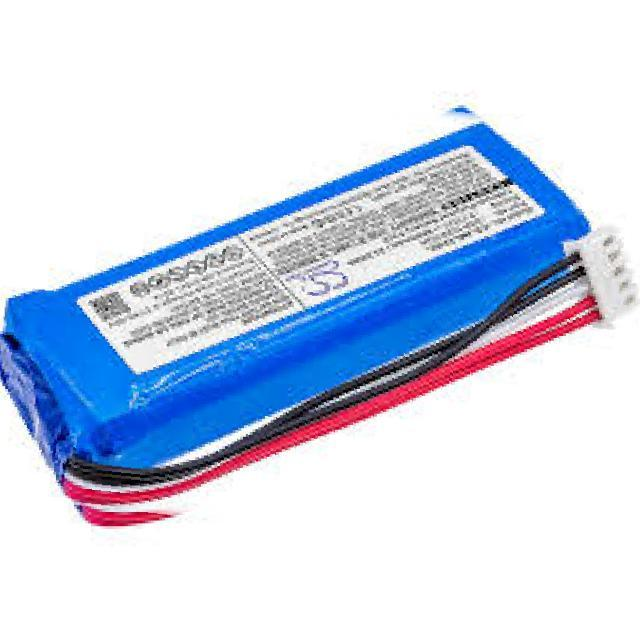Battery: (5, 75, 640, 543)
